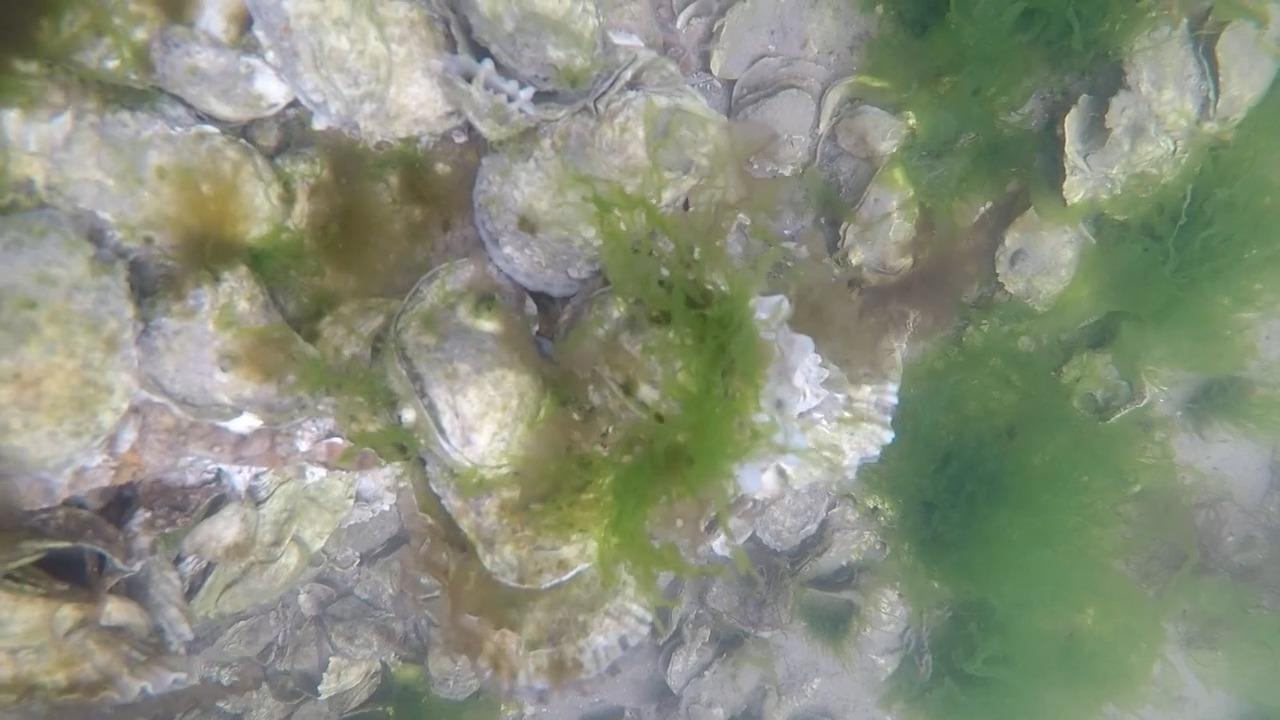Oyster: (131, 260, 343, 436), (0, 217, 137, 474), (245, 1, 471, 147), (398, 259, 544, 466), (420, 454, 620, 600), (118, 122, 301, 263), (469, 136, 618, 299), (553, 283, 700, 445), (592, 84, 741, 225), (1107, 23, 1221, 176), (147, 21, 297, 128), (444, 1, 612, 95), (706, 1, 881, 90), (434, 49, 583, 144), (1065, 85, 1177, 208), (306, 285, 417, 400), (768, 495, 891, 596), (832, 162, 925, 283), (991, 200, 1091, 312), (726, 72, 829, 176), (1180, 484, 1280, 591), (0, 101, 104, 203), (1200, 13, 1280, 130), (676, 642, 774, 718), (747, 476, 837, 558), (1054, 343, 1145, 421), (179, 495, 265, 570), (662, 612, 738, 692), (331, 494, 413, 565), (1002, 80, 1090, 138), (1121, 527, 1193, 594), (832, 104, 908, 167), (314, 651, 388, 712), (425, 647, 485, 702), (96, 591, 160, 641), (189, 1, 253, 48), (671, 1, 729, 50), (296, 582, 339, 618)
